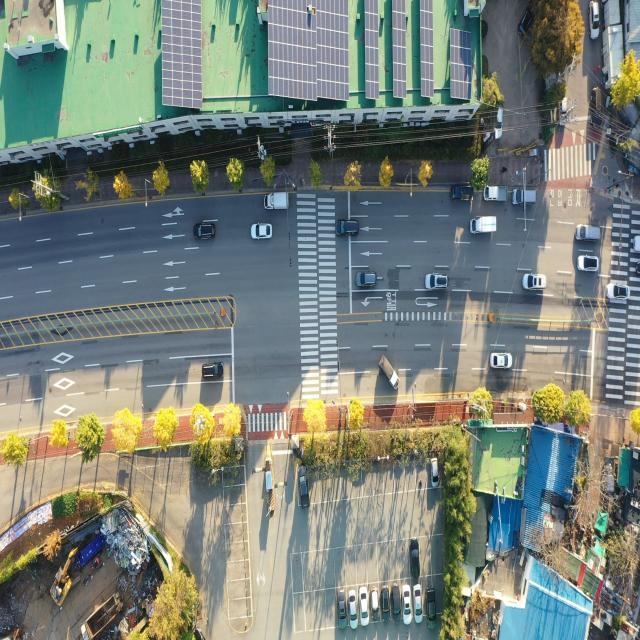car: (295, 462, 312, 512), (424, 269, 450, 294), (247, 220, 274, 244), (333, 217, 361, 240), (517, 4, 538, 34), (604, 282, 632, 304), (201, 358, 226, 382), (353, 269, 379, 292), (522, 271, 548, 294), (575, 221, 602, 243), (193, 220, 218, 243), (489, 350, 514, 371), (511, 187, 538, 206), (577, 253, 600, 275), (380, 583, 392, 625), (412, 583, 424, 625), (402, 580, 413, 625), (428, 453, 441, 490), (336, 588, 347, 630), (347, 587, 358, 628), (557, 90, 569, 127), (589, 0, 599, 43), (359, 584, 369, 626), (494, 102, 504, 139), (409, 537, 418, 578), (369, 586, 379, 622), (428, 588, 436, 632), (392, 584, 400, 622)
medium_truck: (78, 590, 125, 640)
small_truck: (378, 356, 398, 392), (470, 214, 499, 237), (590, 83, 604, 127), (262, 192, 287, 211), (484, 184, 509, 203), (448, 185, 474, 202)
